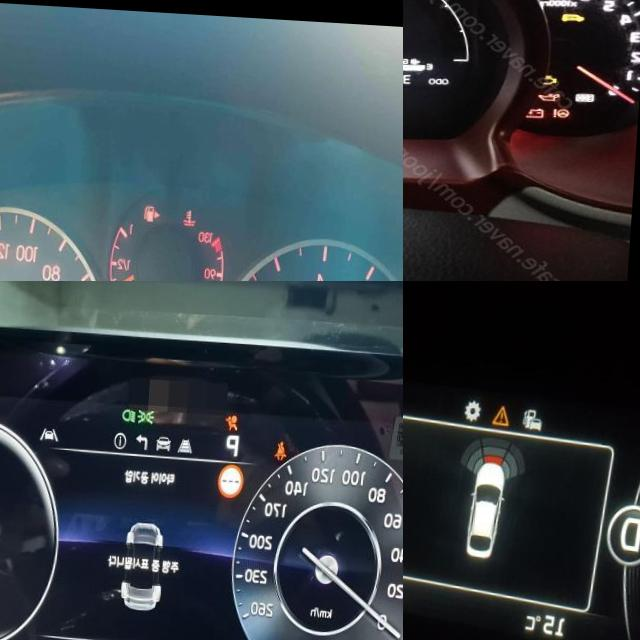Central Warning lamp: (495, 399, 515, 422)
LaneCenteringOff: (44, 423, 62, 439)
Low beam: (125, 403, 139, 420)
SideLamp: (140, 404, 159, 421)
